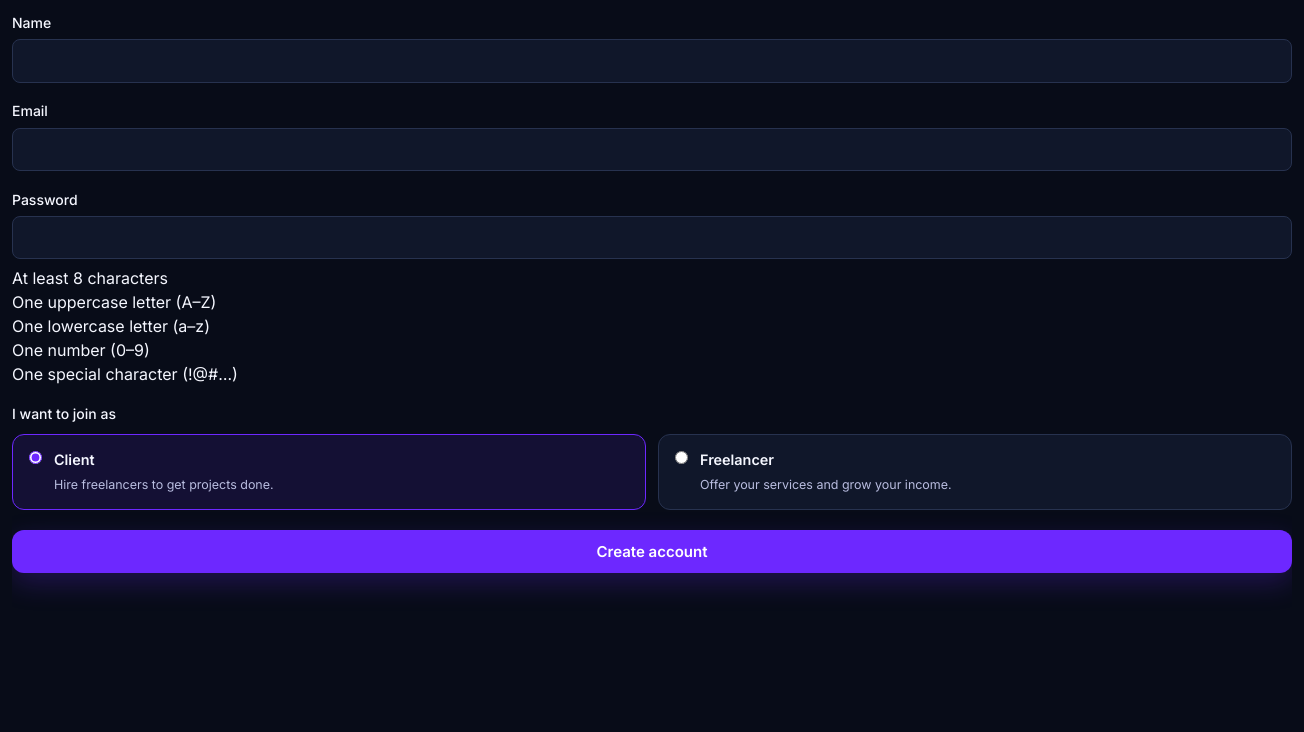
Test case: RegisterForm › shows an error when email is invalid
Step 1. Type "Test User" into the field labelled "Name" → (652, 61), box [12,39,1292,83]
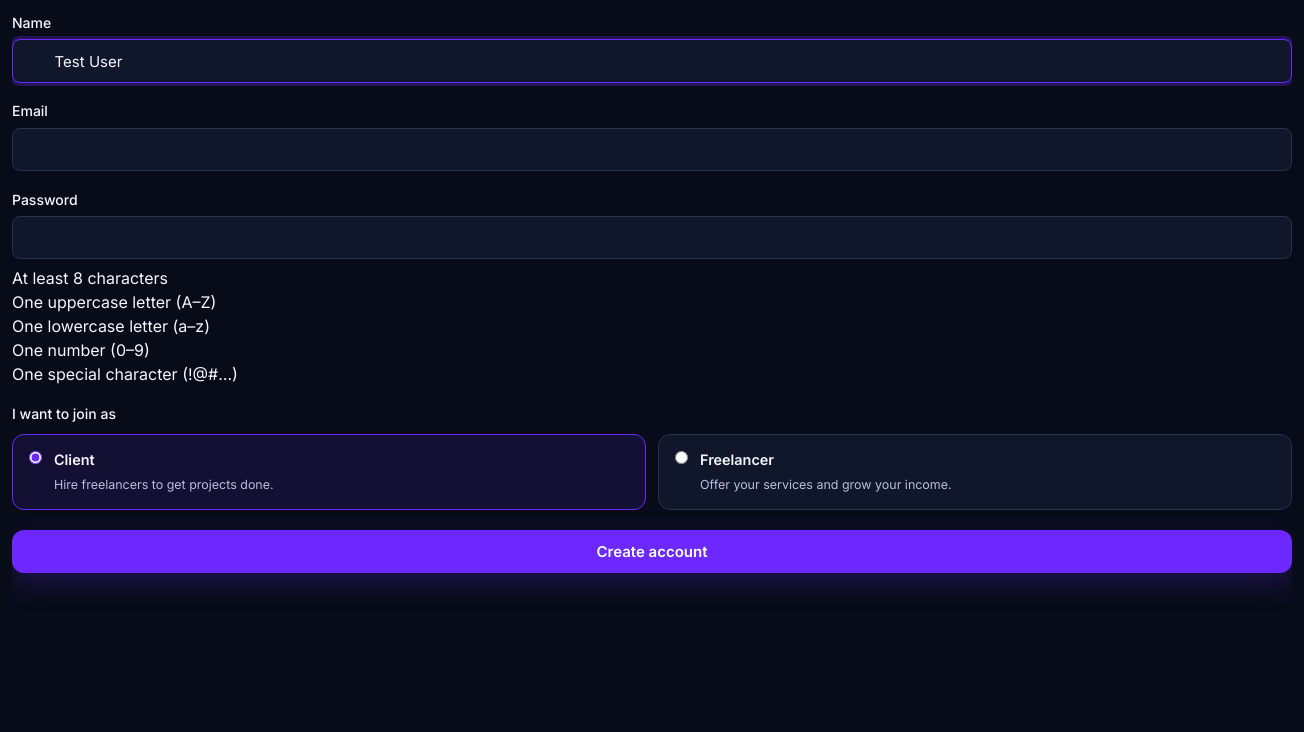
Step 2. Type "notanemail" into the field labelled "Email" → (652, 150), box [12,128,1292,171]
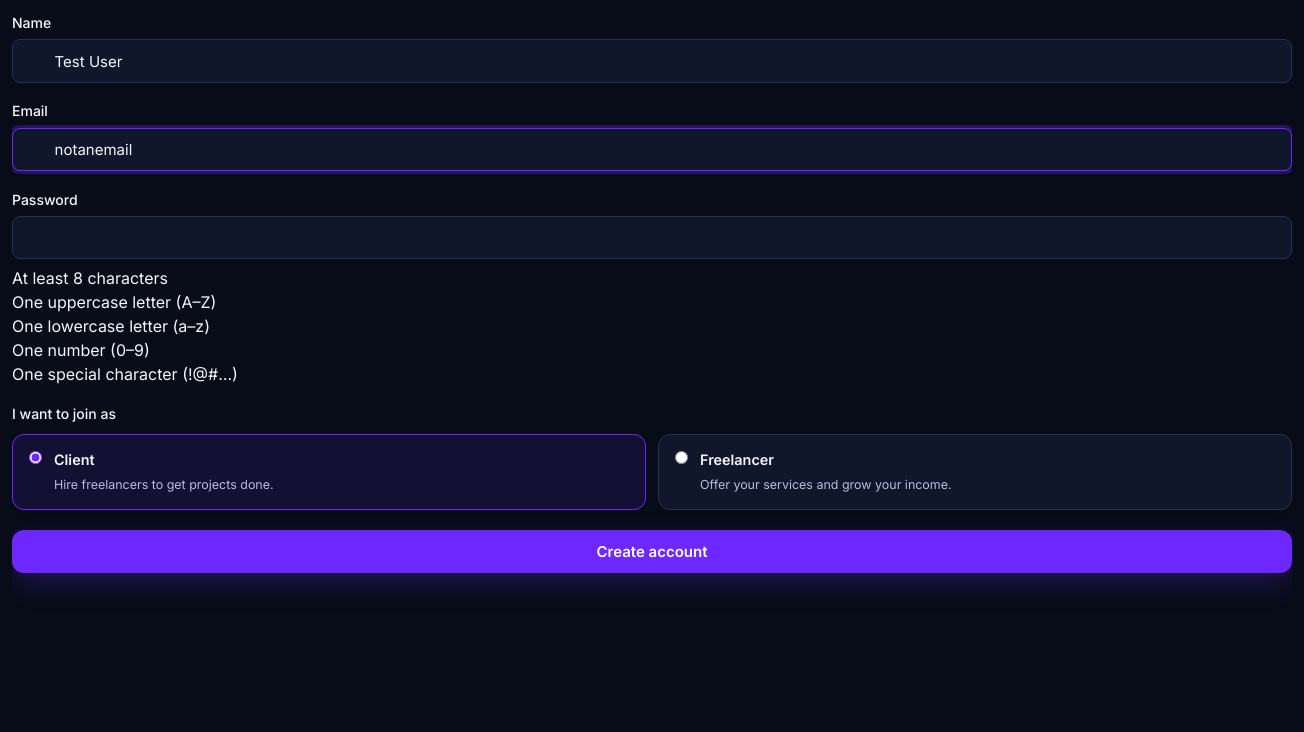
Step 3. Type "Password1!" into the password field with id "rf-password" → (652, 238), box [12,216,1292,260]
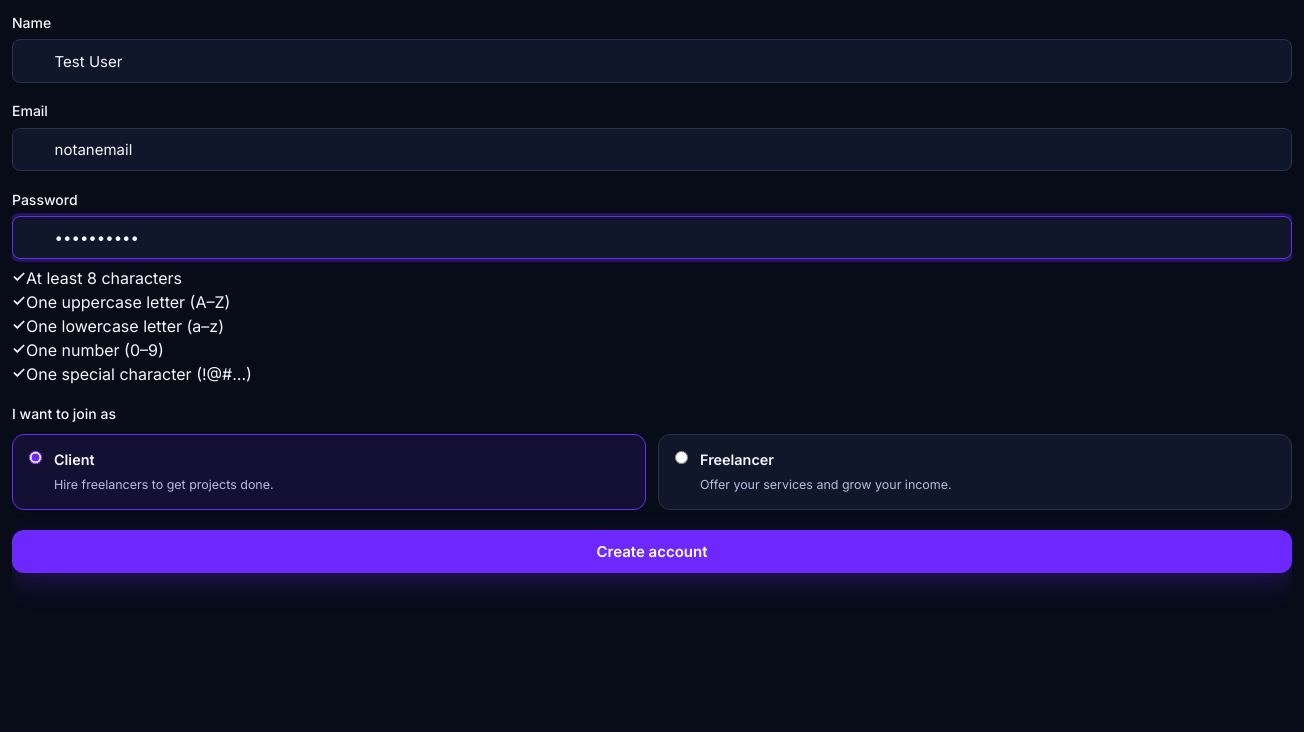
Step 4. Click the radio button labelled "Client Hire freelancers to get projects done." → click(36, 458), box [29,452,42,464]
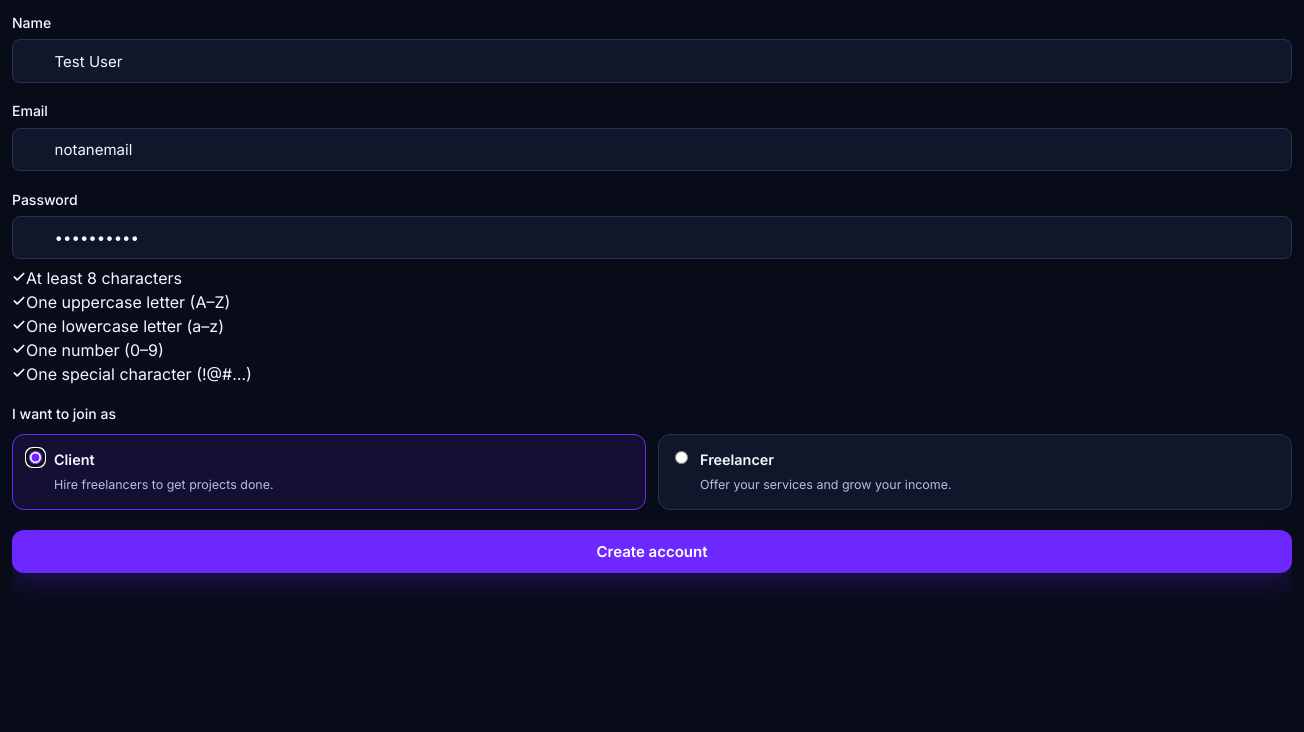
Step 5. Click the button "Create account" → click(652, 552), box [12,530,1292,574]
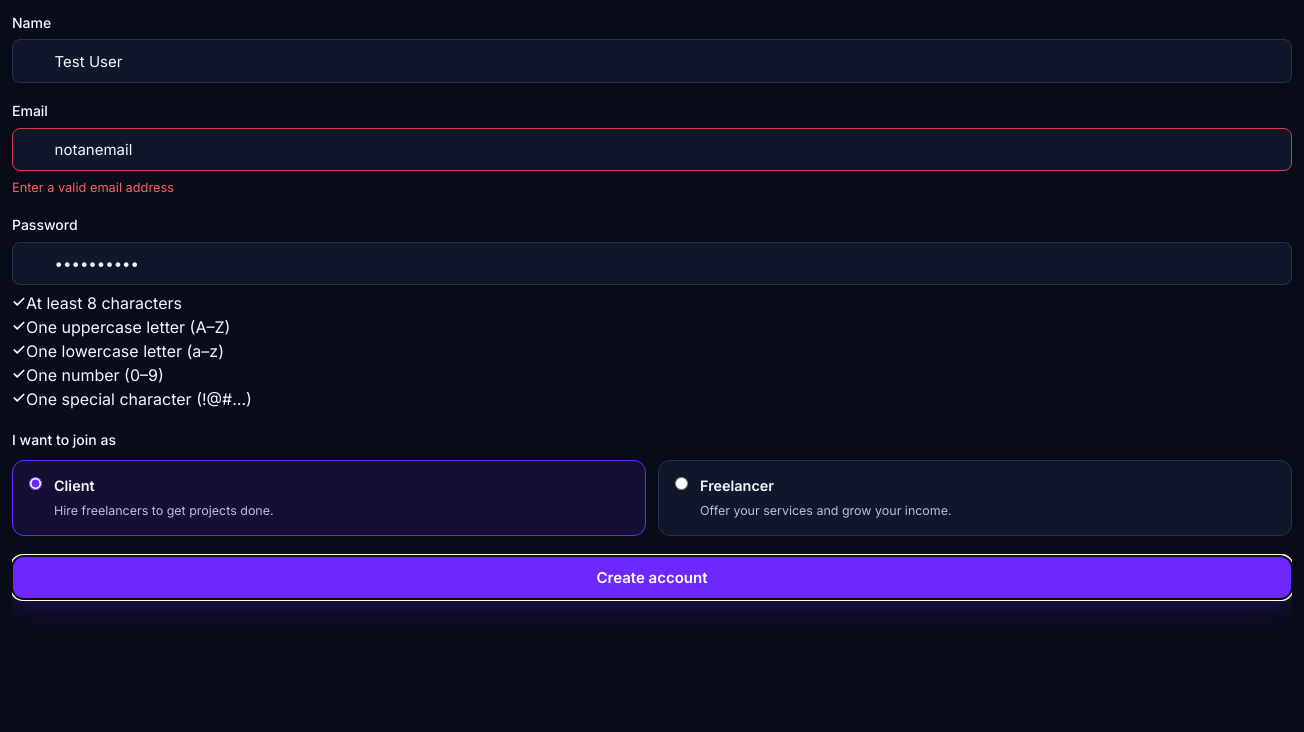
Expected: the message "Enter a valid email address" is shown, [12,180,174,194]
